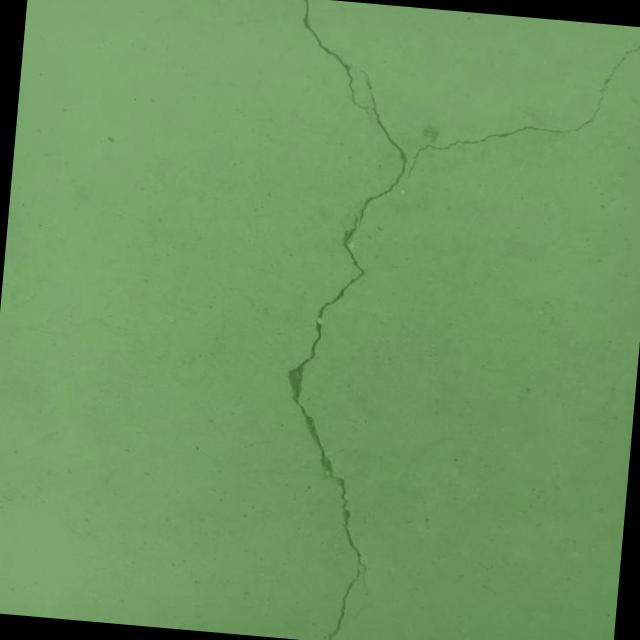crack: (263, 7, 640, 640), (288, 0, 383, 126)
